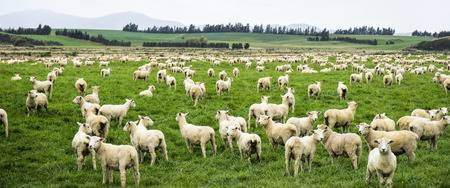sheep: (85, 133, 142, 186), (355, 121, 421, 161), (120, 118, 171, 165), (280, 126, 327, 176), (172, 109, 217, 159), (364, 136, 402, 186), (222, 121, 264, 163), (409, 113, 450, 146), (321, 99, 362, 127), (102, 96, 137, 124), (286, 110, 323, 132), (23, 88, 51, 113), (71, 95, 100, 116), (134, 80, 157, 100), (25, 75, 51, 89), (306, 80, 325, 99), (213, 76, 233, 94), (131, 67, 153, 82), (255, 75, 274, 92), (335, 79, 349, 99), (70, 78, 88, 93), (9, 70, 24, 83), (98, 67, 113, 78)
